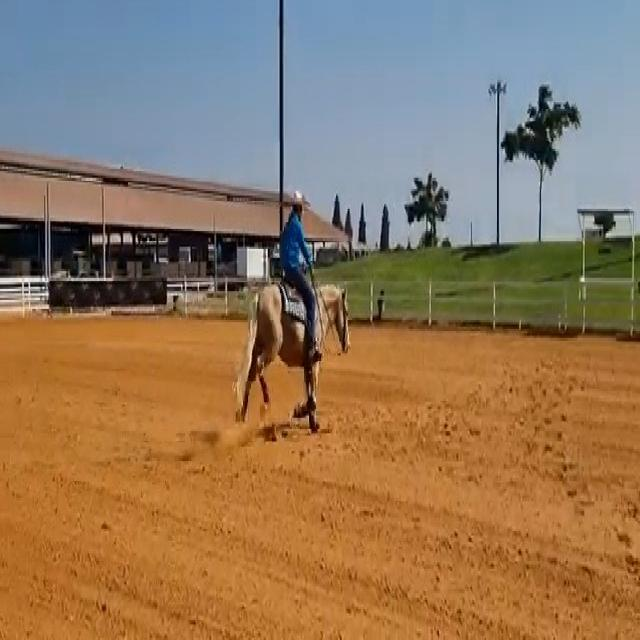horse: (231, 274, 352, 434)
